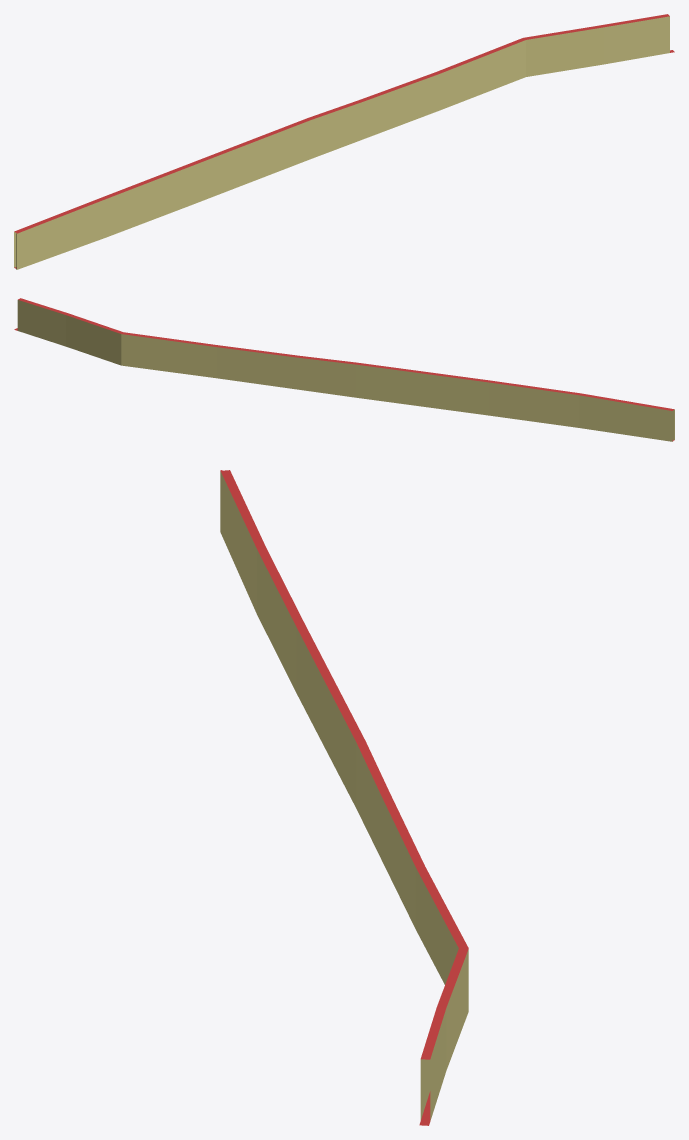
3 views of the same model, one above another, from view 1: azimuth 30°, elevation 25°; view 2: azimuth 150°, elevation 25°; view 3: azimuth 270°, elevation 25° (orthographic). The views are drawn at different scales.
Bounding box in the file's own units: 105 × 18.52 × 5.45.
